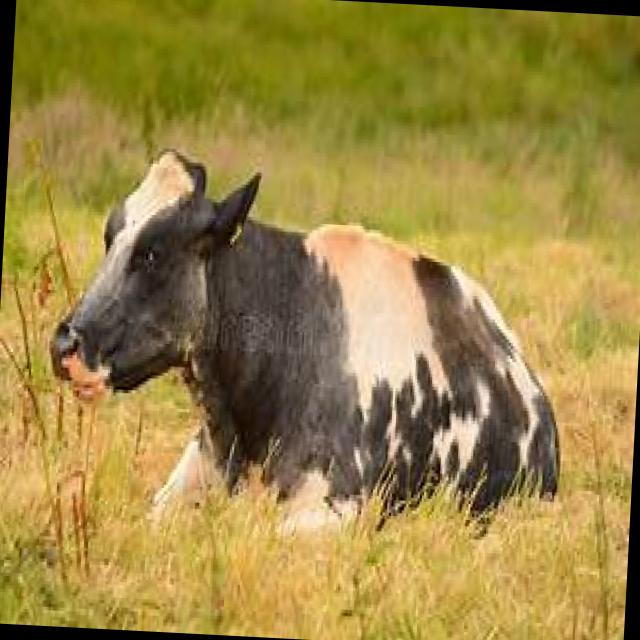cow: (41, 145, 575, 550)
